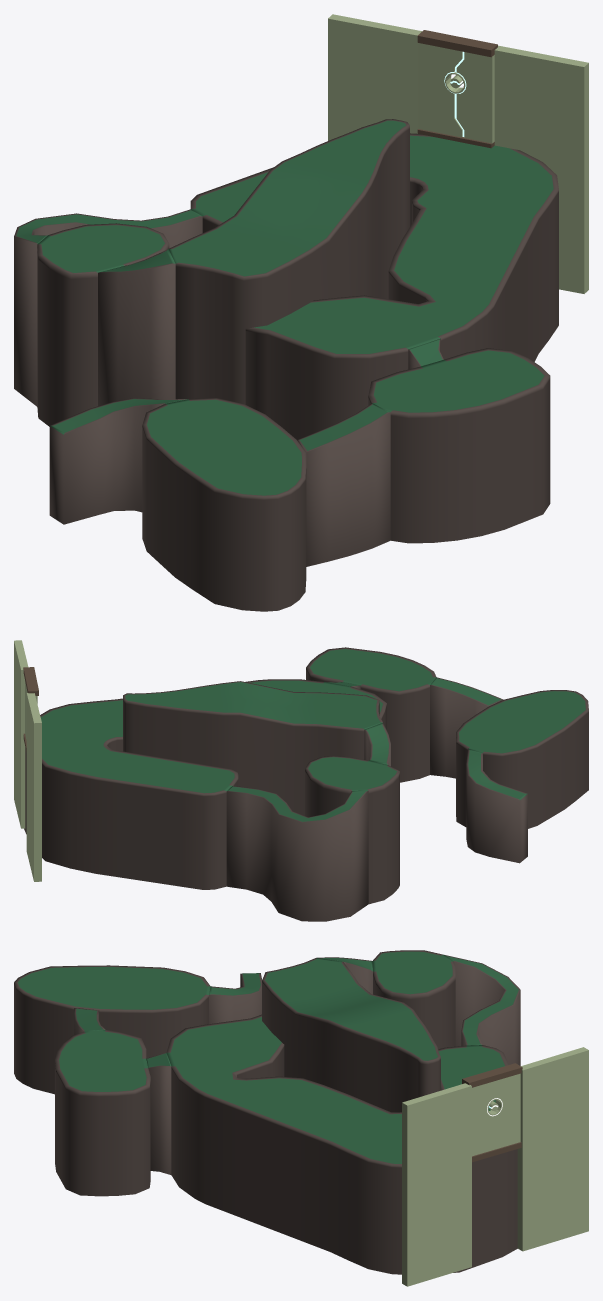
Rendered from Map 1.fbx.
3 views of the same model, one above another, from view 1: azimuth 30°, elevation 25°; view 2: azimuth 150°, elevation 25°; view 3: azimuth 270°, elevation 25° (orthographic). The views are drawn at different scales.
Parts seen in each view (by area): view 1: Plane, Cube.001, Cube; view 2: Plane, Cube.001, Cube; view 3: Plane, Cube.001, Cube.
Boxes of the visible parts, x1=… form: Plane: x1=14, y1=119, x2=558, y2=611; Cube.001: x1=328, y1=14, x2=588, y2=293; Cube: x1=417, y1=30, x2=497, y2=148; Plane: x1=24, y1=647, x2=588, y2=921; Cube.001: x1=14, y1=640, x2=41, y2=881; Cube: x1=23, y1=667, x2=38, y2=752; Plane: x1=14, y1=950, x2=520, y2=1274; Cube.001: x1=402, y1=1047, x2=588, y2=1286; Cube: x1=462, y1=1063, x2=522, y2=1162.
Size of the model in its own units: 519 by 184 by 513.
